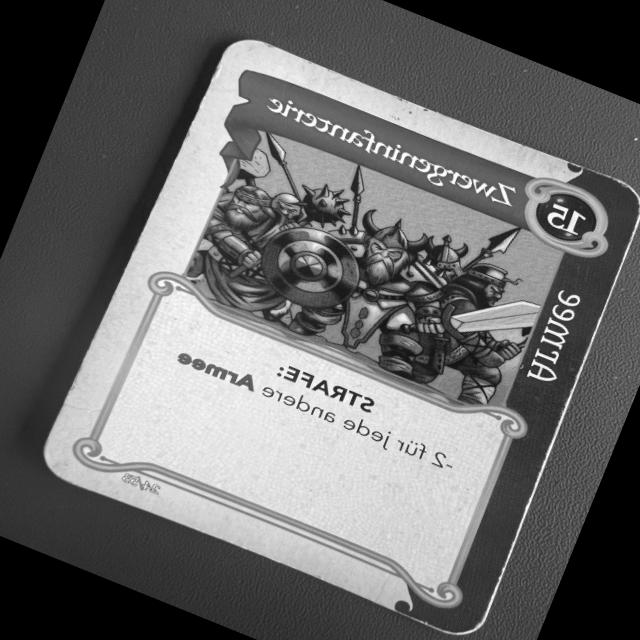Dwarvish Infantry: (28, 27, 640, 640)
